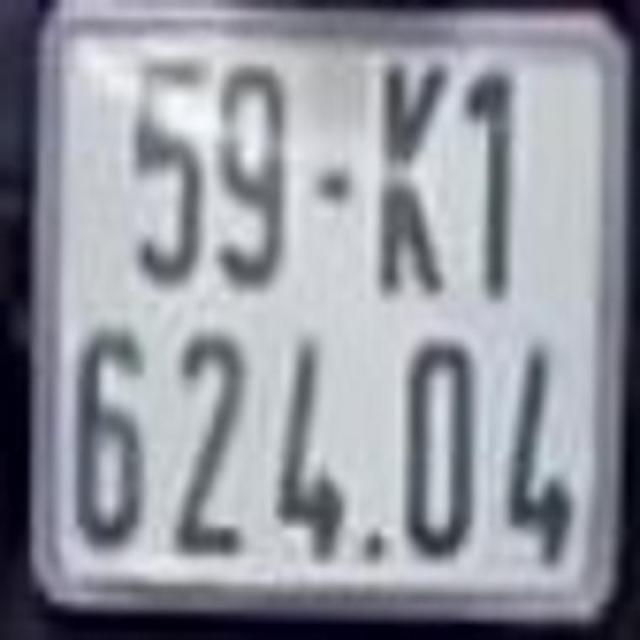0: (400, 331, 475, 560)
1: (457, 53, 522, 310)
2: (168, 322, 245, 554)
4: (498, 336, 578, 570), (268, 332, 343, 570)
5: (130, 46, 210, 284)
6: (66, 318, 146, 558)
9: (214, 56, 284, 289)
K: (375, 56, 453, 306)
